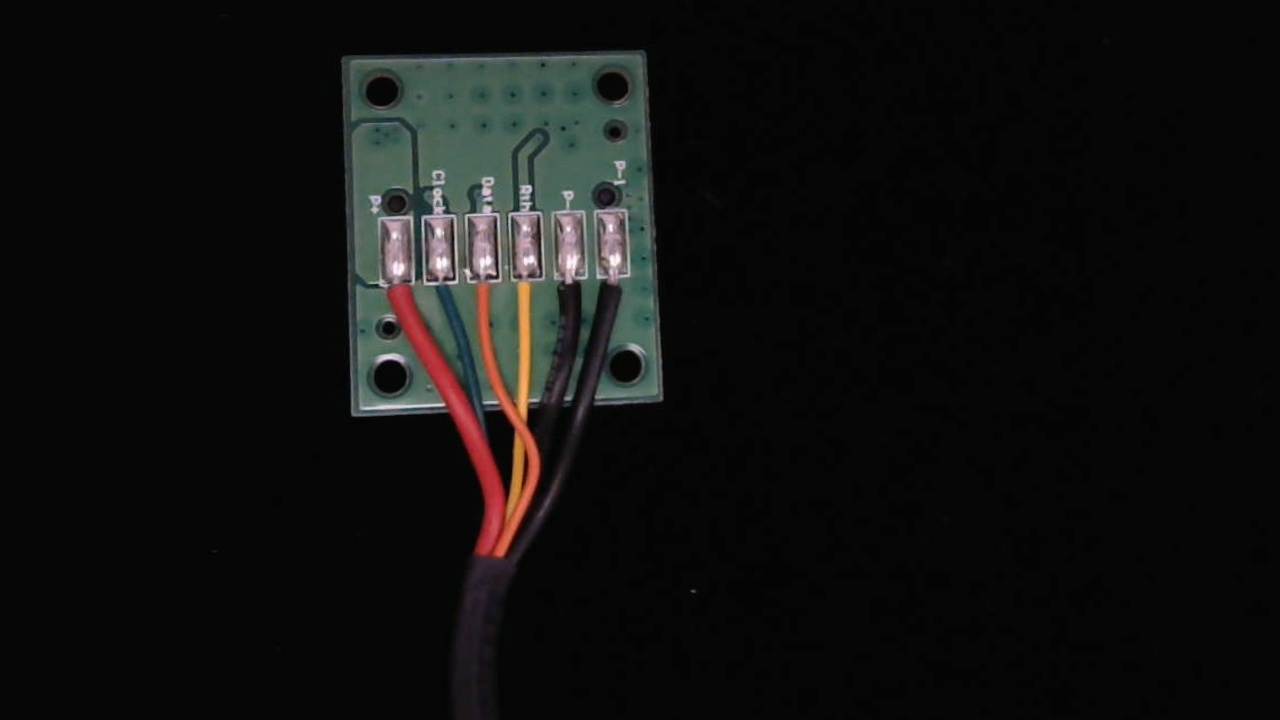Black: (552, 260, 591, 340)
Black1: (595, 261, 633, 334)
Green: (420, 262, 459, 326)
Orange: (465, 261, 503, 340)
Red: (379, 263, 418, 328)
Yellow: (508, 260, 548, 340)
